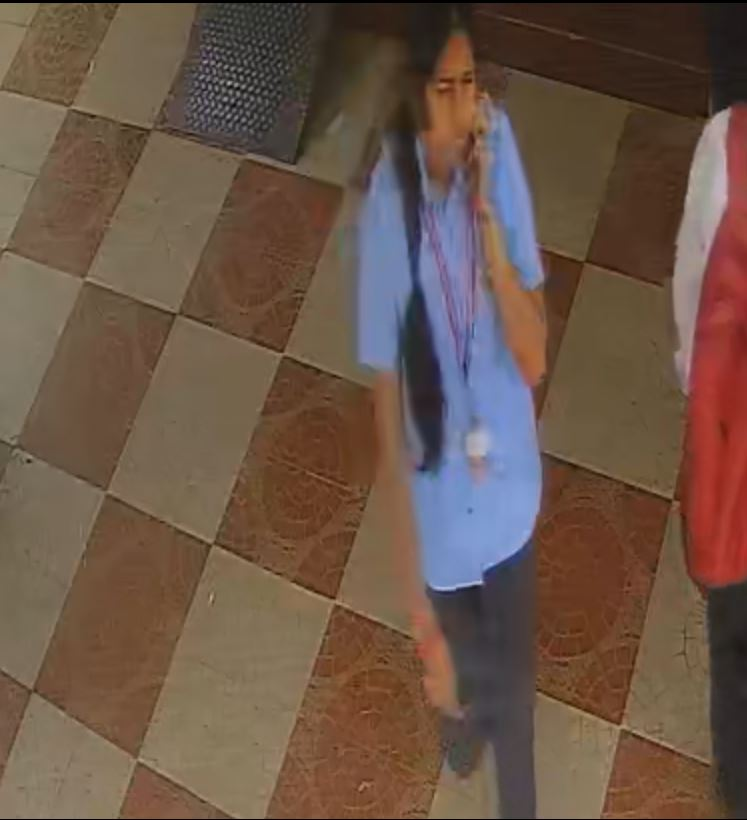not intruder: (332, 22, 567, 820)
